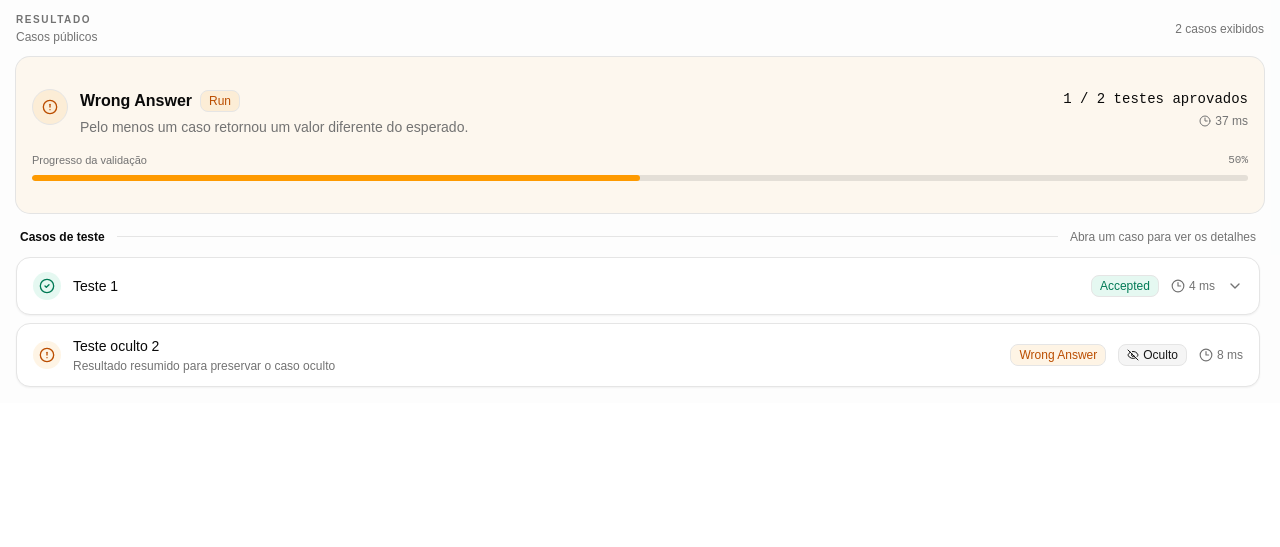
Scenario: ExecutionResultPanel › renders the summary and public test details
Expected: the number of headings "Wrong Answer" is 2, [80, 89, 192, 113]; [1010, 344, 1106, 366]
Expected: the message shows "1 / 2 testes aprovados", [16, 57, 1264, 213]
Click the button with aria-label "Alternar detalhes de Teste 1". click: point(96, 286)
box: [17, 258, 1259, 314]
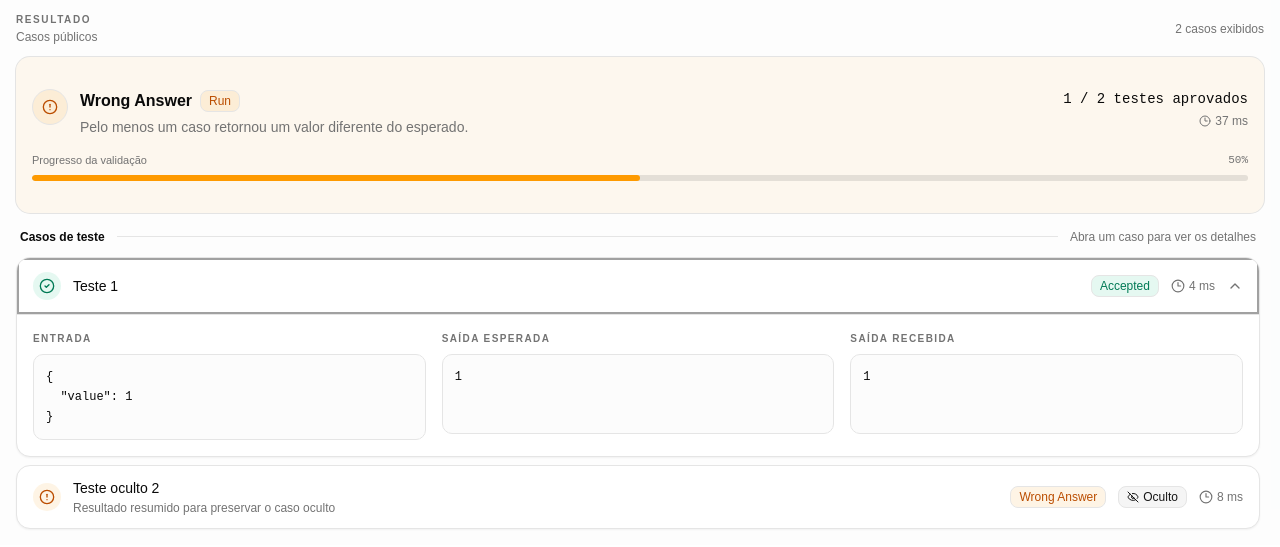
Expected: the text "{ \"value\": 1 }" is shown, [33, 354, 426, 440]
Expected: the text "Saída esperada" is shown, [442, 333, 550, 344]
